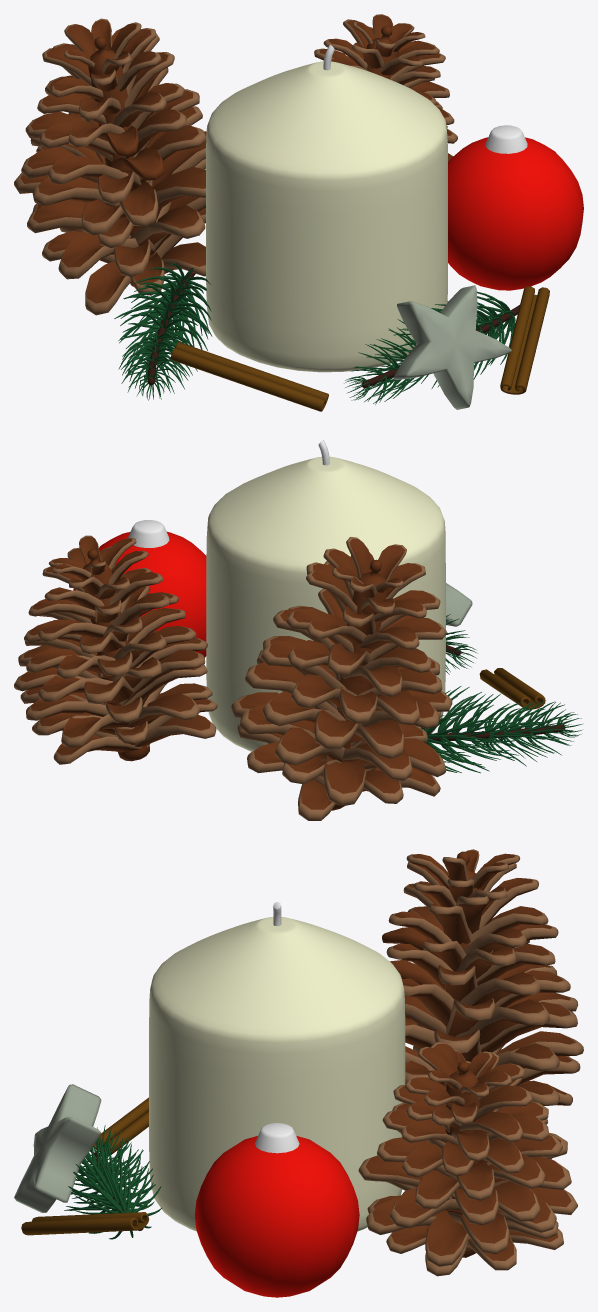
The model's file is christmas.gltf.
3 renders of one model, top to bottom at view 1: azimuth 30°, elevation 25°; view 2: azimuth 150°, elevation 25°; view 3: azimuth 270°, elevation 25°, orthographic. The views are drawn at different scales.
Visible parts, largest first — view 1: Cylinder, Plane.001, Sphere.001, star, BezierCurve.013, Plane.067, BezierCurve.002, cinamon002, cinamon001, Cylinder.002, BezierCurve, BezierCurve.001; view 2: Plane.001, Cylinder, Plane.067, BezierCurve.013, Sphere.001, Cylinder.002, cinamon002, Cylinder.003, star, BezierCurve.002, BezierCurve; view 3: Cylinder, Plane.067, Plane.001, Sphere.001, star, BezierCurve.002, cinamon001, cinamon002, Cylinder.003.
Boxes of the visible parts, left/top/right/bottom form: Cylinder: left=206, top=61, right=447, bottom=372; Plane.001: left=14, top=18, right=206, bottom=315; Sphere.001: left=448, top=125, right=583, bottom=290; star: left=393, top=285, right=511, bottom=409; BezierCurve.013: left=114, top=263, right=212, bottom=400; Plane.067: left=314, top=14, right=457, bottom=161; BezierCurve.002: left=344, top=291, right=515, bottom=404; cinamon002: left=170, top=342, right=328, bottom=411; cinamon001: left=500, top=286, right=549, bottom=394; Cylinder.002: left=88, top=36, right=154, bottom=287; BezierCurve: left=147, top=271, right=195, bottom=385; BezierCurve.001: left=361, top=305, right=519, bottom=388; Plane.001: left=231, top=537, right=452, bottom=820; Cylinder: left=206, top=456, right=445, bottom=751; Plane.067: left=14, top=535, right=217, bottom=764; BezierCurve.013: left=420, top=686, right=583, bottom=773; Sphere.001: left=73, top=520, right=206, bottom=657; Cylinder.002: left=331, top=559, right=387, bottom=810; cinamon002: left=479, top=668, right=545, bottom=709; Cylinder.003: left=82, top=549, right=149, bottom=761; star: left=446, top=583, right=472, bottom=626; BezierCurve.002: left=445, top=614, right=477, bottom=674; BezierCurve: left=429, top=724, right=565, bottom=740; Cylinder: left=149, top=917, right=405, bottom=1231; Plane.067: left=358, top=1042, right=577, bottom=1276; Plane.001: left=382, top=849, right=583, bottom=1105; Sphere.001: left=194, top=1123, right=359, bottom=1297; star: left=14, top=1084, right=101, bottom=1212; BezierCurve.002: left=64, top=1125, right=161, bottom=1239; cinamon001: left=21, top=1212, right=149, bottom=1235; cinamon002: left=94, top=1097, right=148, bottom=1154; Cylinder.003: left=445, top=1061, right=480, bottom=1257.
Bounding box in the file's own units: 3.77 × 2.19 × 3.73.
